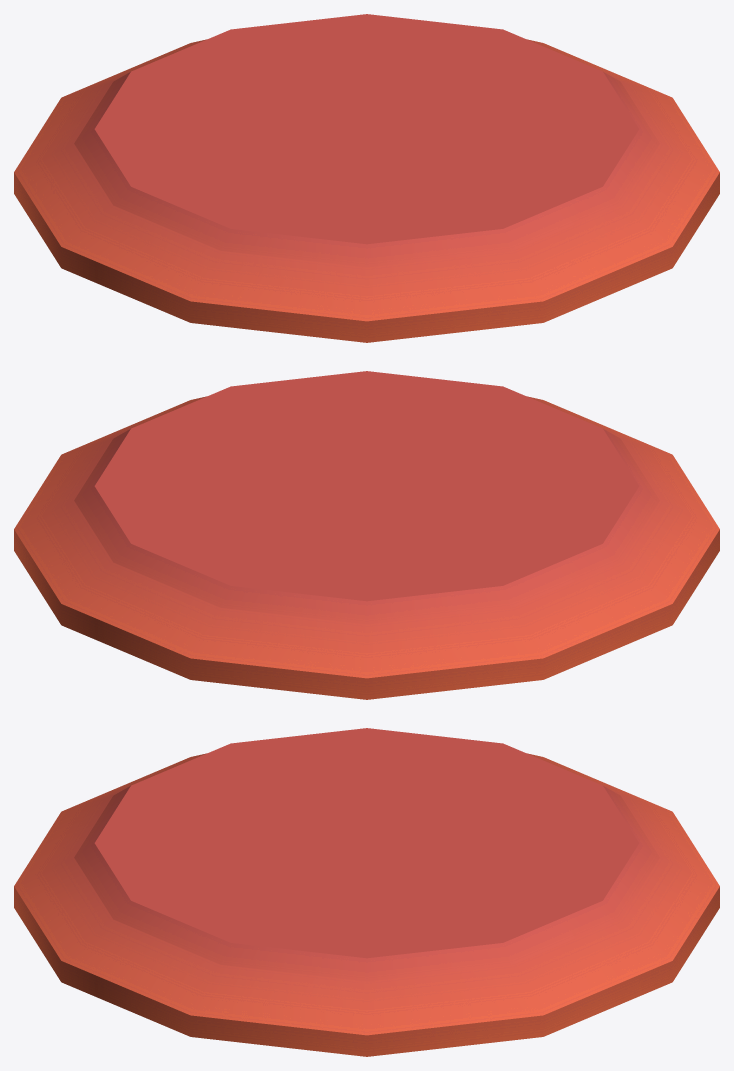
File: Alarm_Bedroom.glb
3 views of the same model, one above another, from view 1: azimuth 30°, elevation 25°; view 2: azimuth 150°, elevation 25°; view 3: azimuth 270°, elevation 25° (orthographic).
Visible parts, largest first — view 1: Flash; view 2: Flash; view 3: Flash.
Part boxes in pixels (left/top/right/bottom): Flash: left=14, top=14, right=719, bottom=342; Flash: left=14, top=371, right=719, bottom=699; Flash: left=14, top=728, right=719, bottom=1056.
Size of the model in its own units: 0.8918 by 0.09 by 0.8918.
2 materials, 2 textured.
